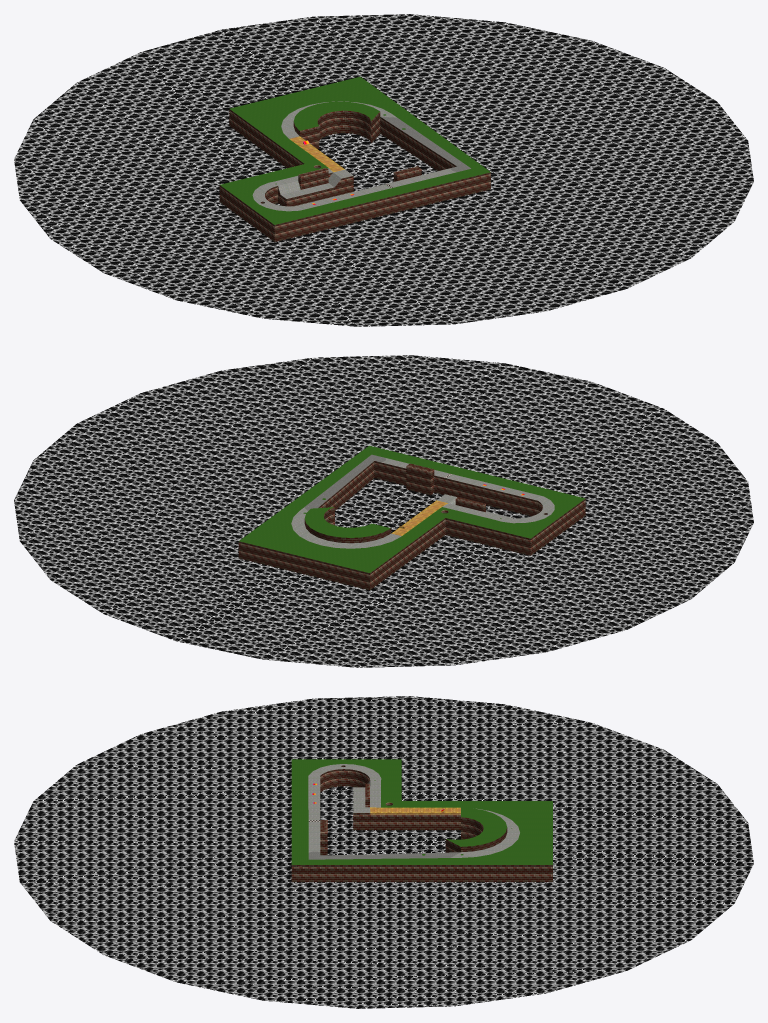
3 renders of one model, top to bottom at view 1: azimuth 30°, elevation 25°; view 2: azimuth 150°, elevation 25°; view 3: azimuth 270°, elevation 25°, orthographic.
Parts seen in each view (by area): view 1: Water_Road-SKP--ef_wave1P_Mip.001, Water_Road-SKP--Wand.001, Water_Road-SKP--Gras_.001, Water_Road-SKP--Road_.001, Water_Road-SKP--Road1.001; view 2: Water_Road-SKP--ef_wave1P_Mip.001, Water_Road-SKP--Wand.001, Water_Road-SKP--Gras_.001, Water_Road-SKP--Road_.001, Water_Road-SKP--Road1.001; view 3: Water_Road-SKP--ef_wave1P_Mip.001, Water_Road-SKP--Gras_.001, Water_Road-SKP--Wand.001, Water_Road-SKP--Road_.001, Water_Road-SKP--Road1.001, Water_Road-SKP--Material1.001.
Boxes of the visible parts, box(x1,y1,x2,y2) form: Water_Road-SKP--ef_wave1P_Mip.001: box(14, 14, 753, 326); Water_Road-SKP--Wand.001: box(219, 109, 490, 242); Water_Road-SKP--Gras_.001: box(220, 76, 490, 224); Water_Road-SKP--Road_.001: box(252, 101, 456, 211); Water_Road-SKP--Road1.001: box(380, 116, 470, 171); Water_Road-SKP--ef_wave1P_Mip.001: box(14, 355, 753, 667); Water_Road-SKP--Wand.001: box(238, 461, 585, 590); Water_Road-SKP--Gras_.001: box(239, 445, 585, 572); Water_Road-SKP--Road_.001: box(291, 458, 554, 548); Water_Road-SKP--Road1.001: box(304, 454, 385, 510); Water_Road-SKP--ef_wave1P_Mip.001: box(14, 696, 753, 1008); Water_Road-SKP--Gras_.001: box(291, 759, 552, 864); Water_Road-SKP--Wand.001: box(291, 765, 552, 882); Water_Road-SKP--Road_.001: box(308, 764, 519, 857); Water_Road-SKP--Road1.001: box(308, 851, 459, 859); Water_Road-SKP--Material1.001: box(370, 807, 460, 814).
Size of the model in its own units: 259552 by 19992 by 259552.
Materials: 8 (8 with a texture image).
